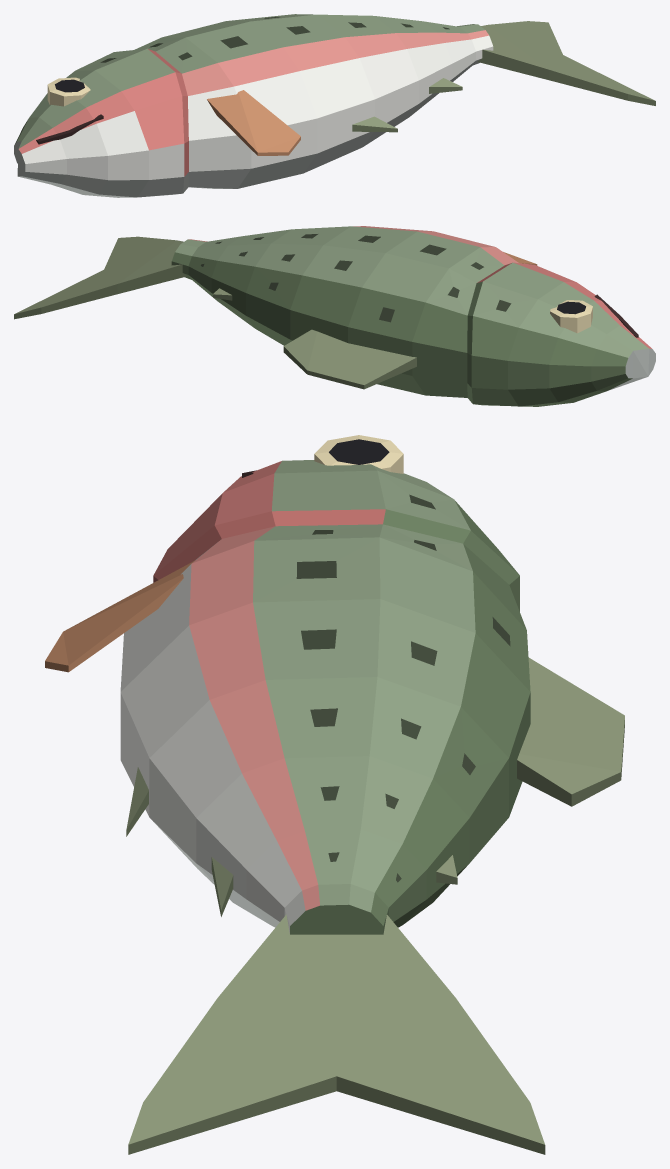
Rendered from FMS_Food_Fish.fbx.
3 views of the same model, one above another, from view 1: azimuth 30°, elevation 25°; view 2: azimuth 150°, elevation 25°; view 3: azimuth 270°, elevation 25° (orthographic). The views are drawn at different scales.
Parts seen in each view (by area): view 1: item_food_fish; view 2: item_food_fish; view 3: item_food_fish.
Part boxes in pixels (left/top/right/bottom): item_food_fish: left=14, top=14, right=655, bottom=197; item_food_fish: left=14, top=226, right=655, bottom=406; item_food_fish: left=45, top=435, right=624, bottom=1154.
Size of the model in its own units: 0.3566 by 0.0753 by 0.1558.
Materials: 1 (1 with a texture image).
